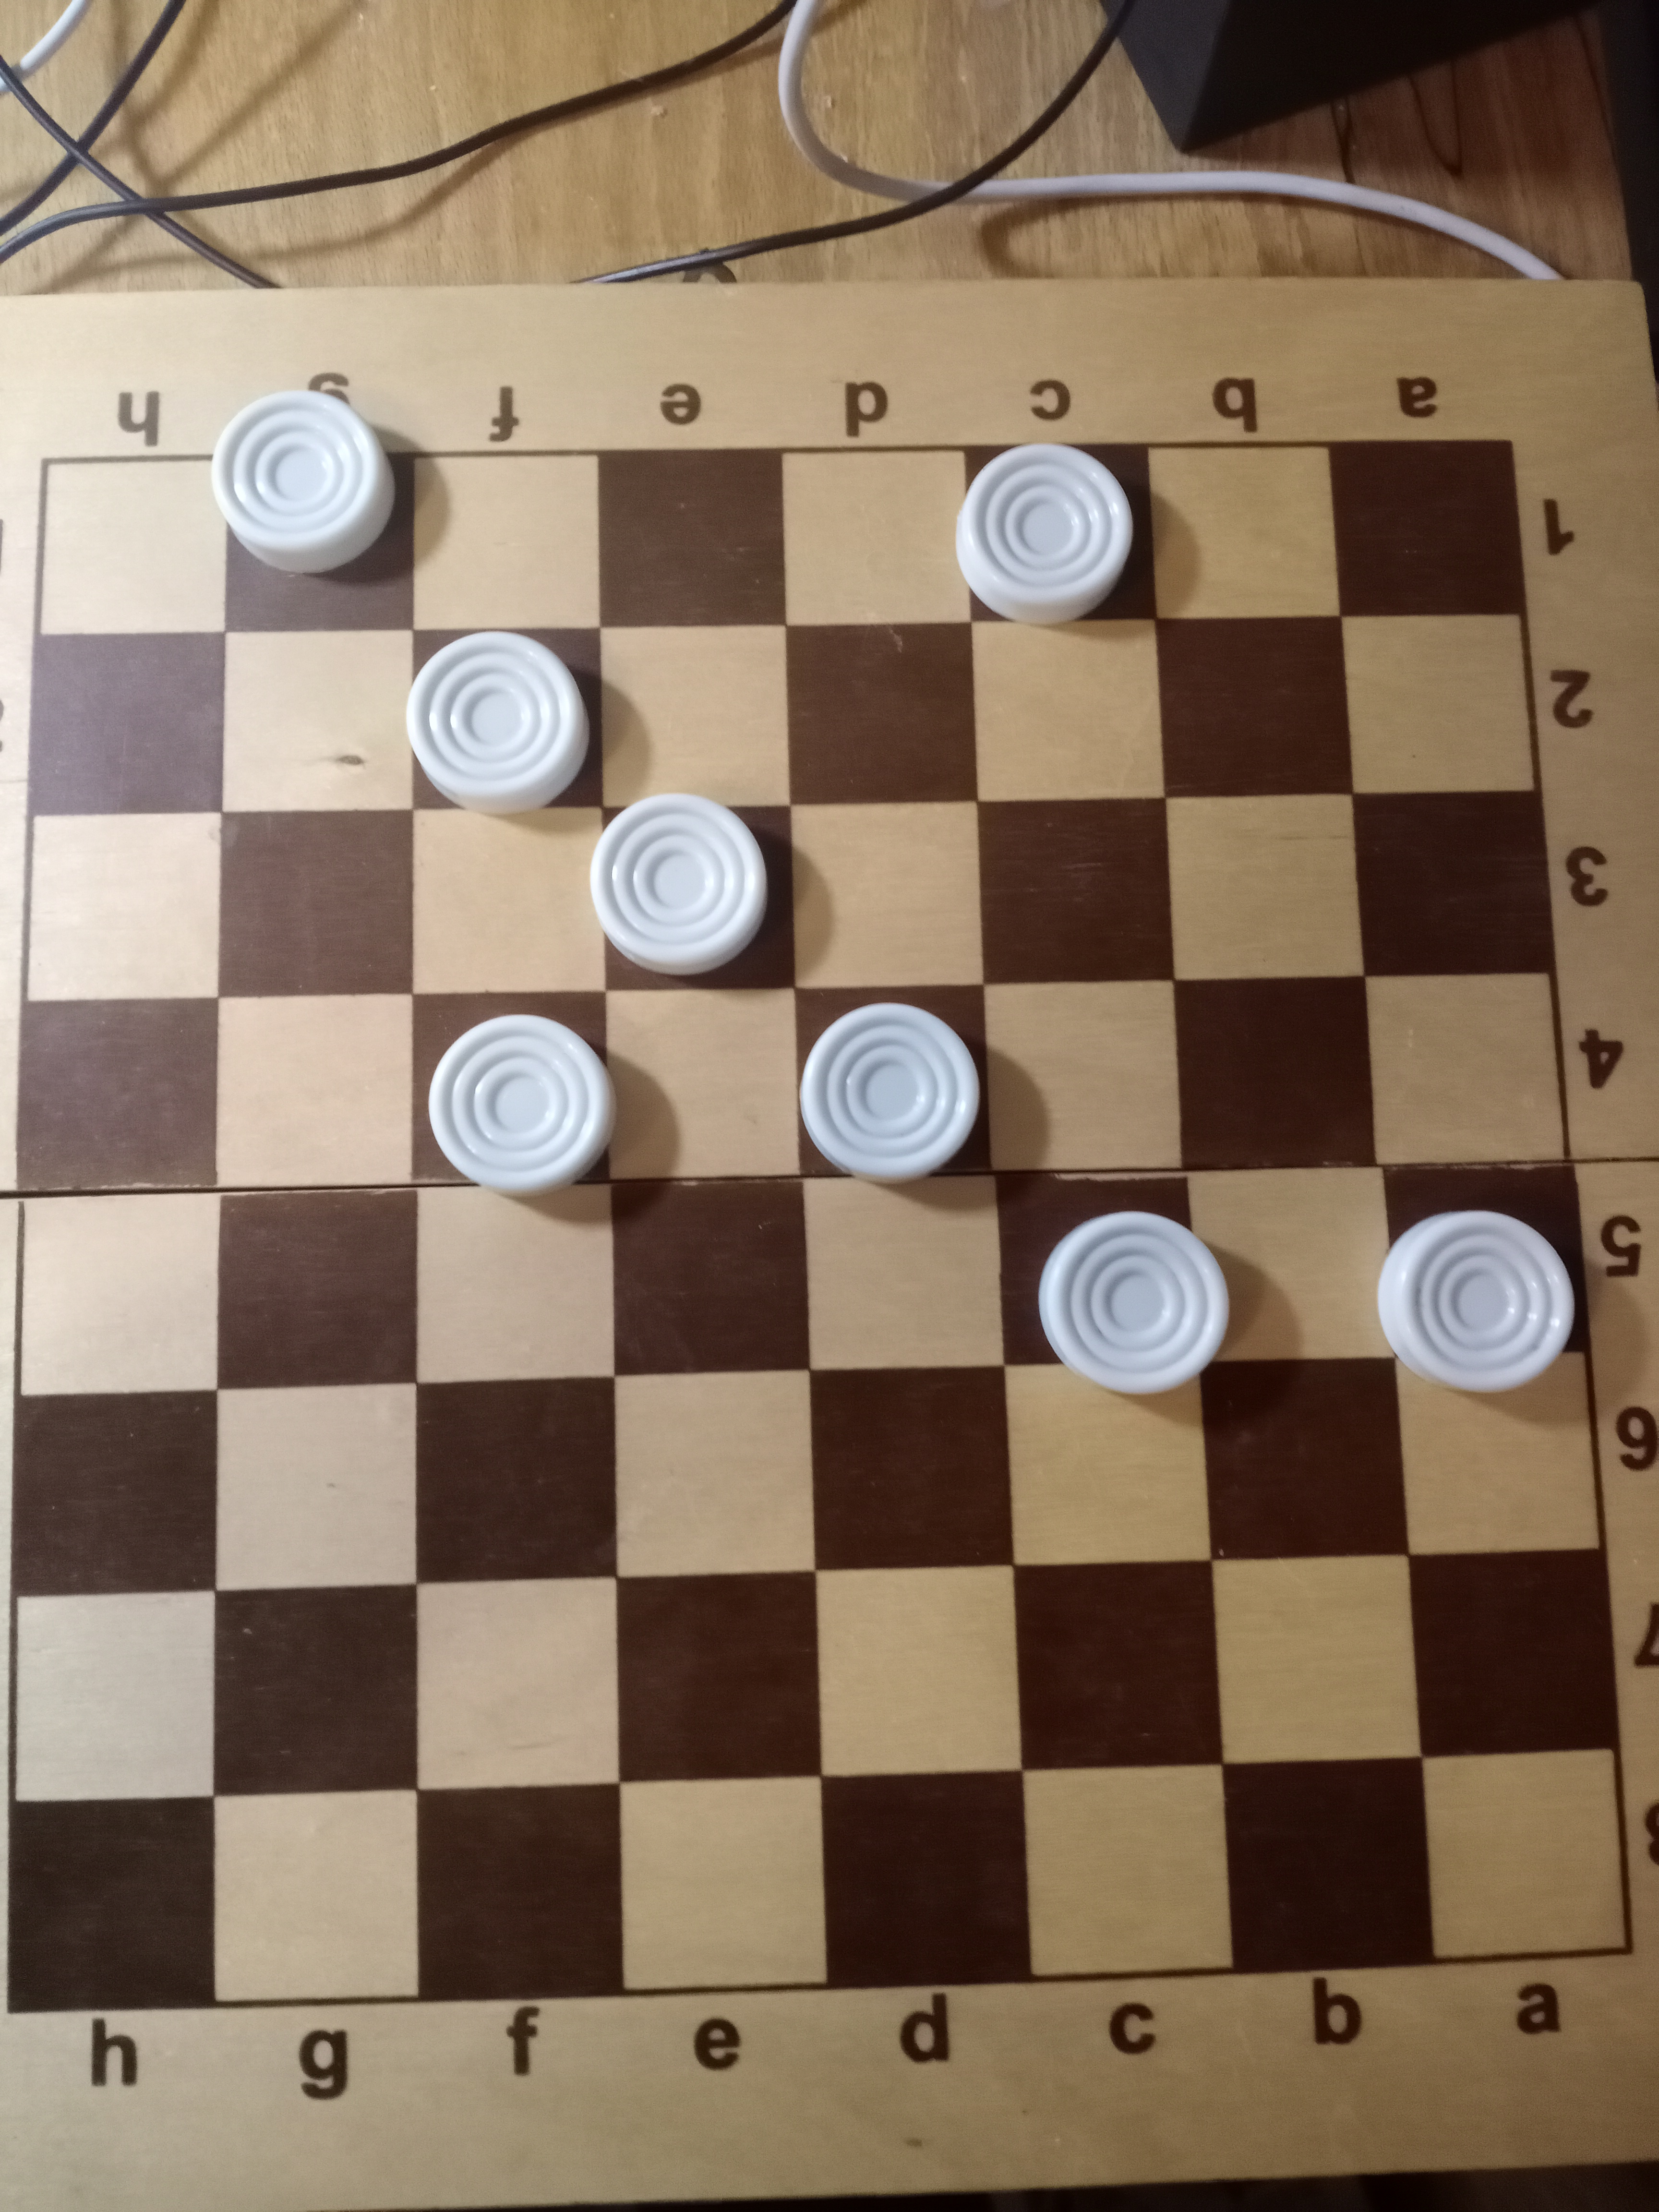White_Draught: (995, 1172, 1230, 1393), (211, 388, 416, 632), (1380, 1165, 1584, 1392), (413, 991, 615, 1197), (591, 794, 796, 993), (796, 984, 993, 1183), (404, 631, 605, 815), (957, 444, 1157, 624)
